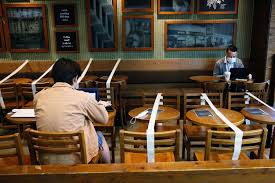Good: (32, 45, 257, 125)
